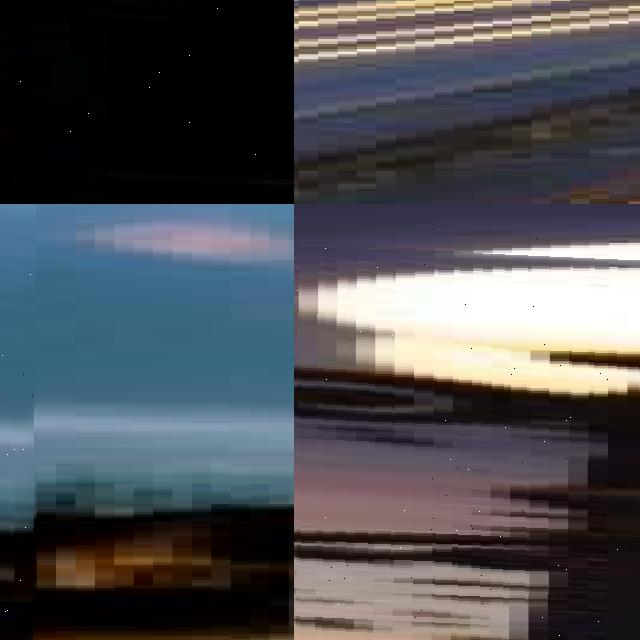street light: (294, 235, 640, 640), (0, 0, 294, 204)
